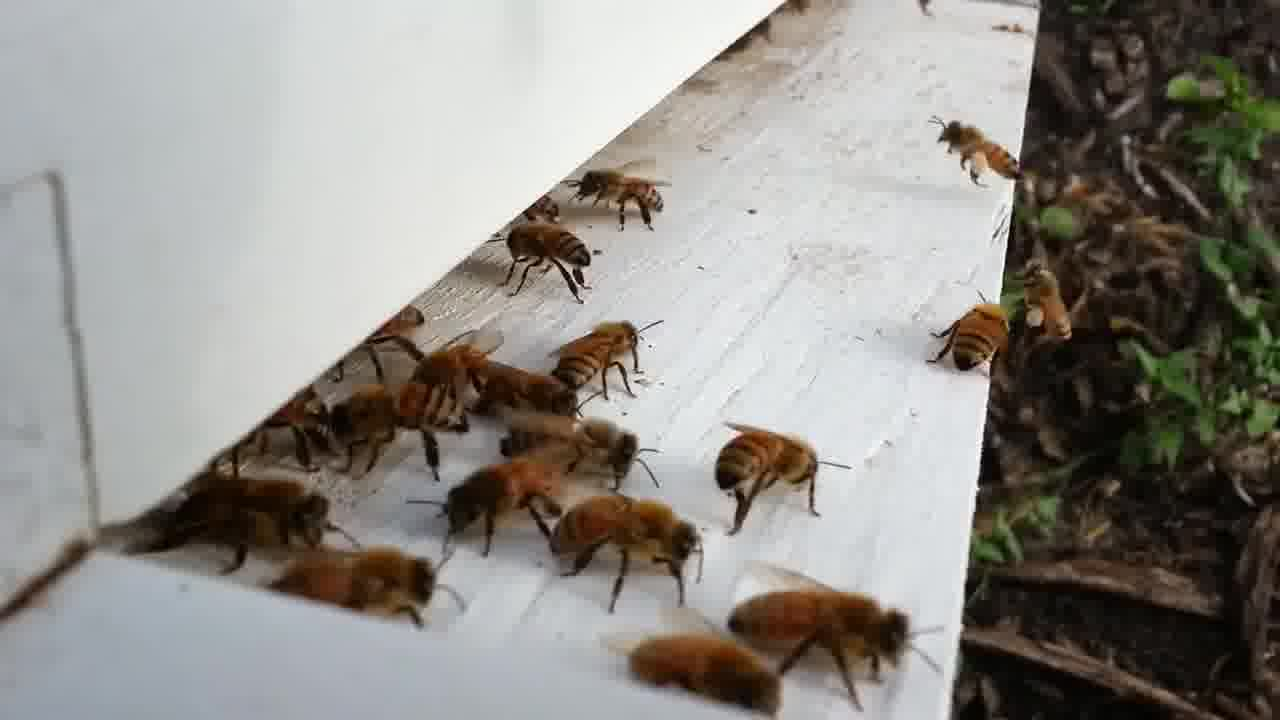pollen: (938, 117, 1023, 186), (1021, 260, 1073, 346)
